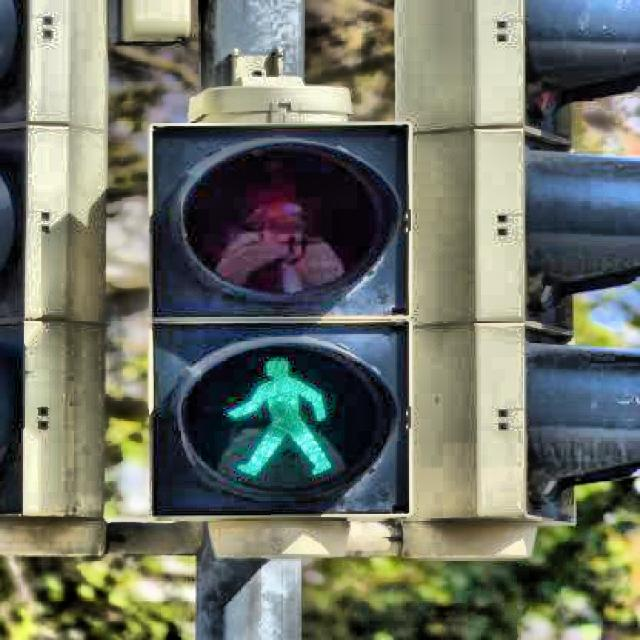semaforo pedestre: (117, 78, 486, 580)
